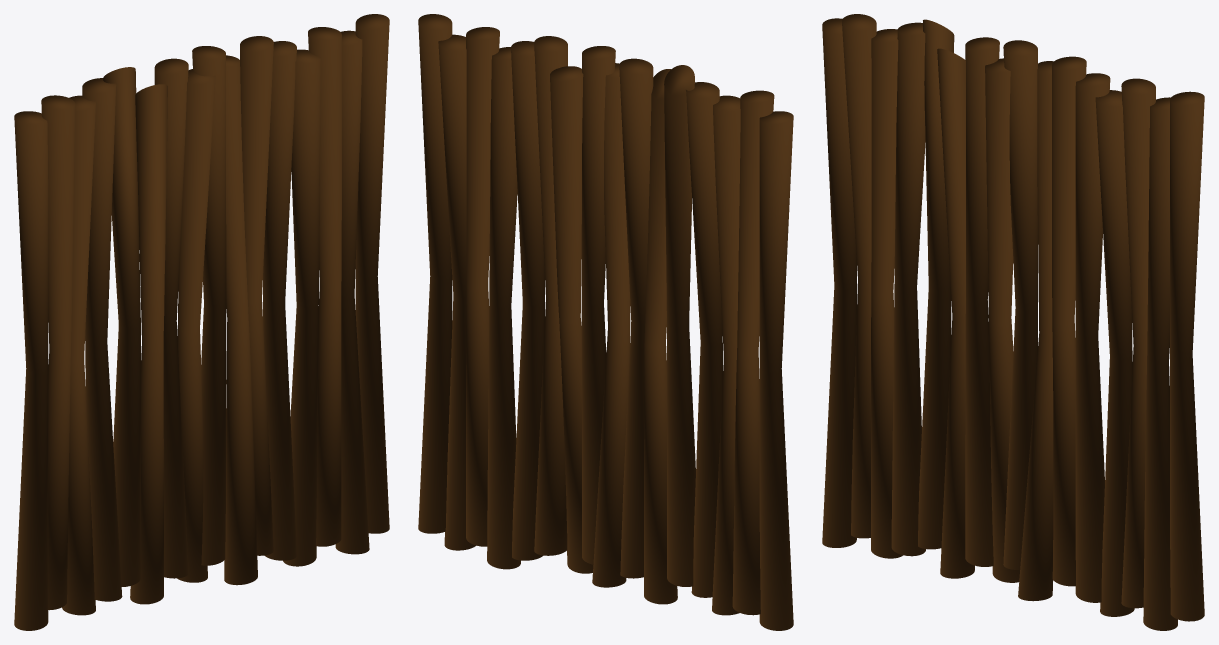
The model's file is DoorBlock.fbx.
3 views of the same model, side by side, from view 1: azimuth 30°, elevation 25°; view 2: azimuth 150°, elevation 25°; view 3: azimuth 330°, elevation 25° (orthographic).
Visible parts, largest first — view 1: Cylinder.014; view 2: Cylinder.014; view 3: Cylinder.014.
Boxes of the visible parts, x1=… form: Cylinder.014: x1=14, y1=14, x2=389, y2=630; Cylinder.014: x1=418, y1=14, x2=793, y2=630; Cylinder.014: x1=822, y1=14, x2=1204, y2=630.
Size of the model in its own units: 2509 by 3481 by 406.
